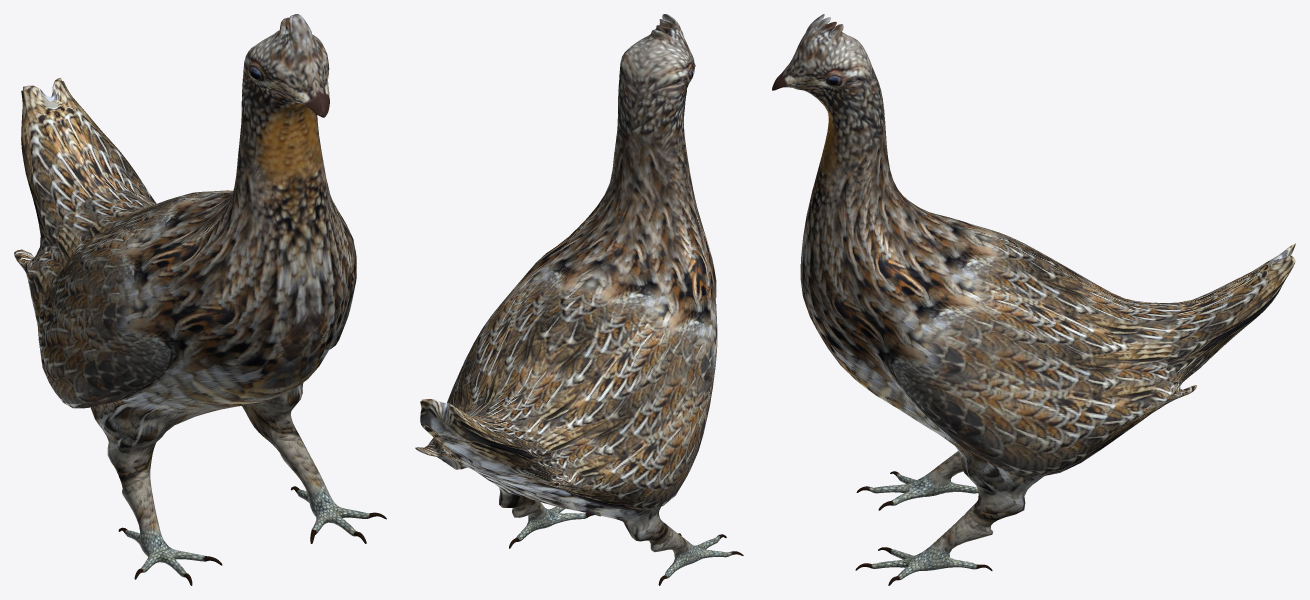
Rendered from Grouse.FBX.
3 renders of one model, left to right at view 1: azimuth 30°, elevation 25°; view 2: azimuth 150°, elevation 25°; view 3: azimuth 270°, elevation 25°, orthographic. The views are drawn at different scales.
Parts seen in each view (by area): view 1: Grouse; view 2: Grouse; view 3: Grouse.
Part boxes in pixels (left/top/right/bottom): Grouse: left=14, top=14, right=386, bottom=585; Grouse: left=415, top=14, right=743, bottom=585; Grouse: left=772, top=14, right=1295, bottom=585.
Bounding box in the file's own units: 6.2 × 11.89 × 12.96.
Materials: 1 (1 with a texture image).
